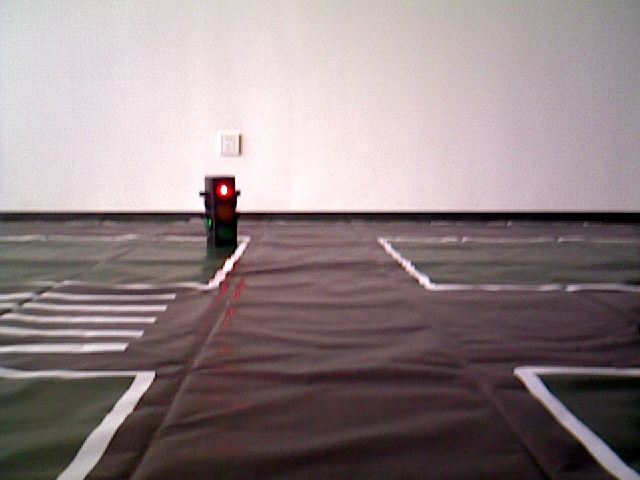red: (203, 179, 234, 246)
